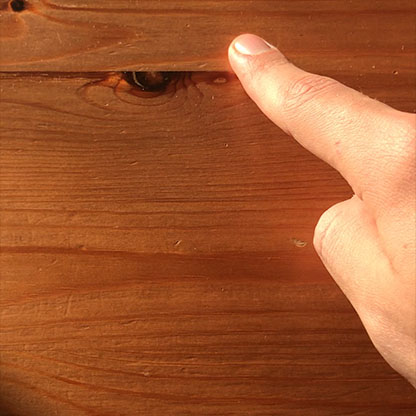fingertip: (220, 18, 284, 75)
